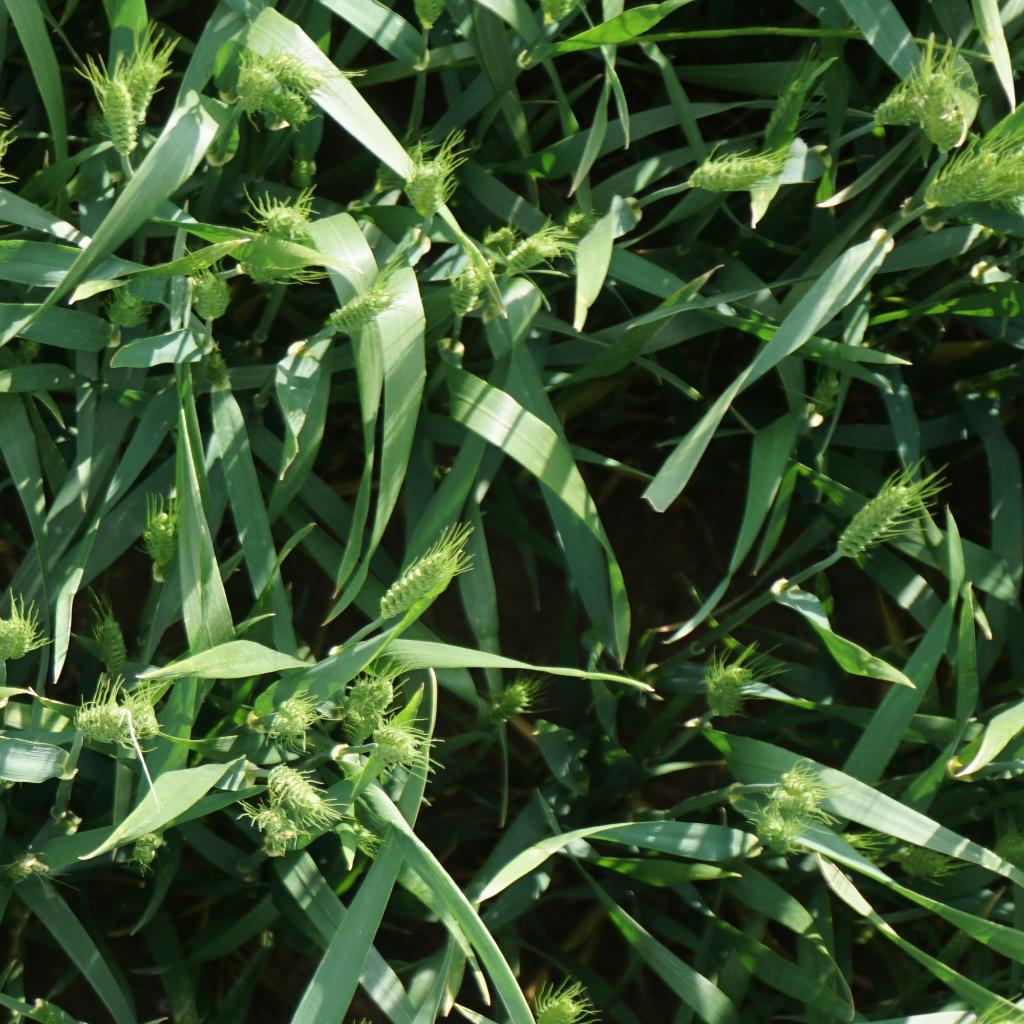0-0: (922, 135, 1024, 217), (376, 538, 465, 616), (834, 483, 918, 560), (763, 64, 818, 157), (91, 70, 143, 157), (261, 765, 338, 822), (688, 151, 801, 189), (107, 50, 166, 122), (341, 675, 396, 747), (240, 73, 312, 126), (329, 276, 396, 332), (245, 46, 333, 88), (750, 775, 833, 817), (528, 978, 600, 1024), (876, 75, 948, 120), (506, 223, 570, 273), (922, 66, 961, 146), (0, 600, 44, 665), (893, 839, 959, 880), (485, 679, 534, 734), (116, 690, 164, 745), (229, 251, 316, 281), (372, 141, 424, 191), (370, 718, 418, 771), (141, 510, 182, 571), (82, 700, 138, 743), (187, 264, 229, 321), (267, 694, 321, 737), (709, 660, 751, 714), (236, 51, 271, 114), (247, 804, 298, 846), (408, 158, 444, 214), (114, 276, 150, 331), (92, 613, 126, 671), (451, 260, 482, 318), (247, 204, 316, 230), (753, 807, 790, 851), (773, 761, 819, 795), (830, 826, 886, 848), (485, 225, 521, 257), (137, 825, 163, 863)
